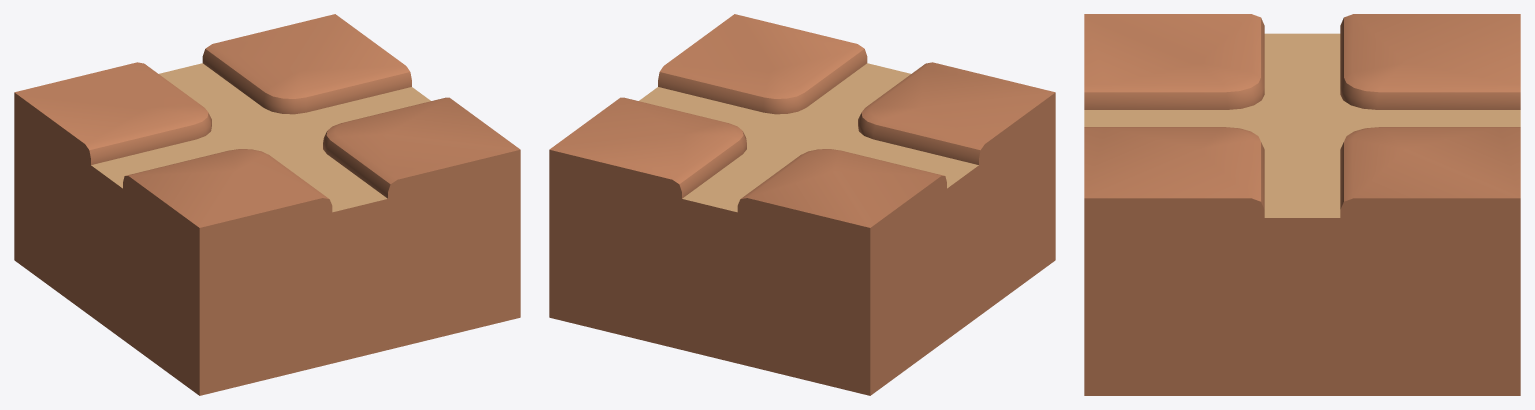
The model's file is square_rock_roadE.glb.
3 views of the same model, side by side, from view 1: azimuth 30°, elevation 25°; view 2: azimuth 150°, elevation 25°; view 3: azimuth 270°, elevation 25° (orthographic). The views are drawn at different scales.
Visible parts, largest first — view 1: square_rock_roadE; view 2: square_rock_roadE; view 3: square_rock_roadE.
Boxes of the visible parts, left/top/right/bottom form: square_rock_roadE: left=14, top=14, right=520, bottom=395; square_rock_roadE: left=549, top=14, right=1055, bottom=395; square_rock_roadE: left=1084, top=14, right=1520, bottom=395.
Size of the model in its own units: 2 by 1 by 2.
